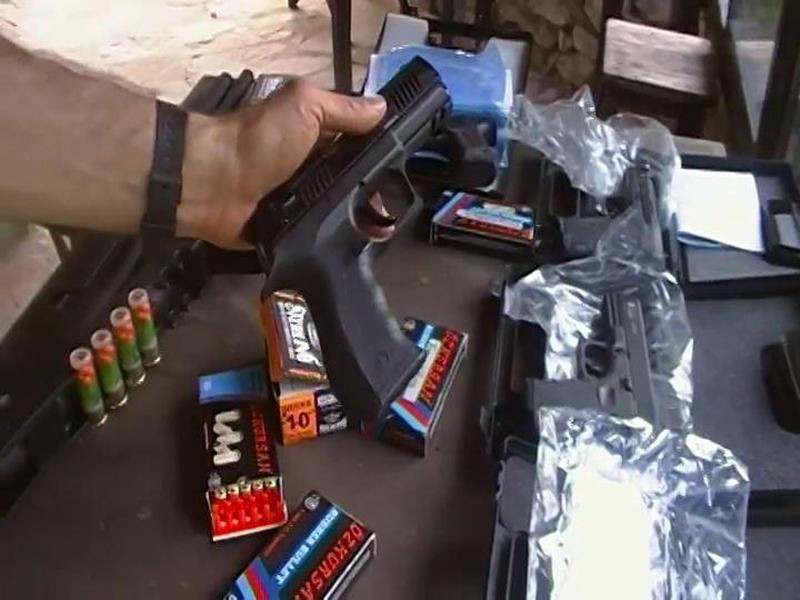Pistola: (230, 40, 474, 442)
